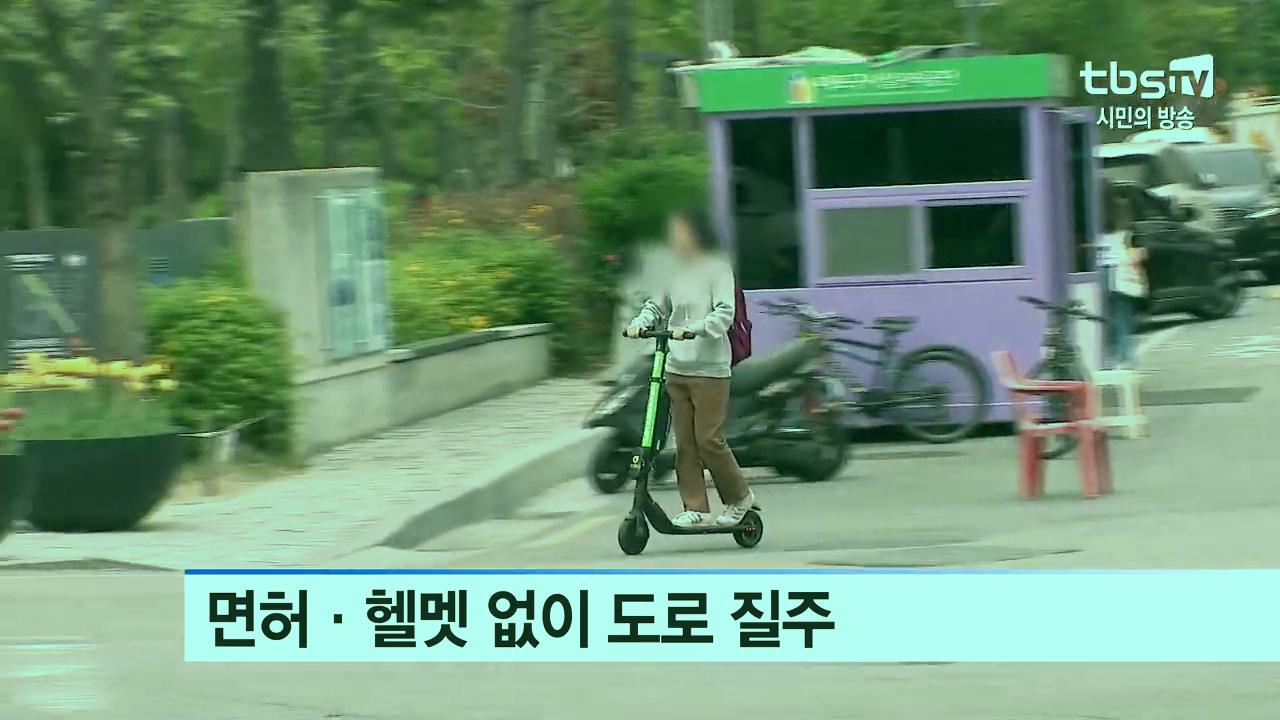nonhelmet: (617, 206, 770, 554)
